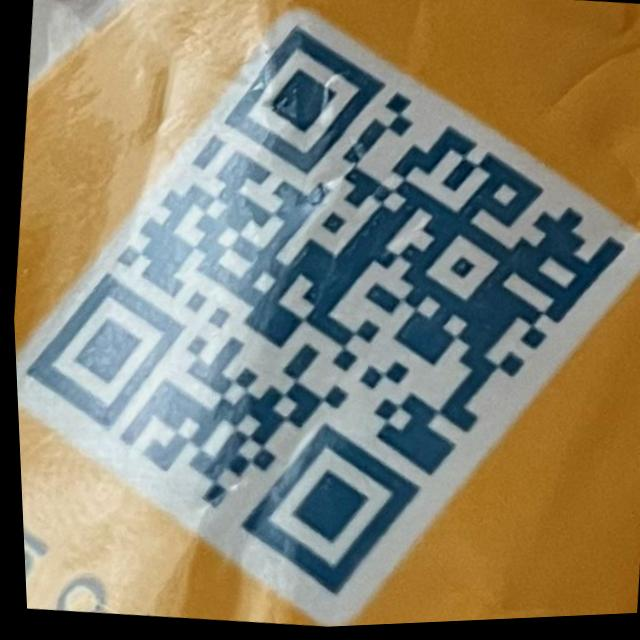QR_CODE: (0, 0, 640, 636)
